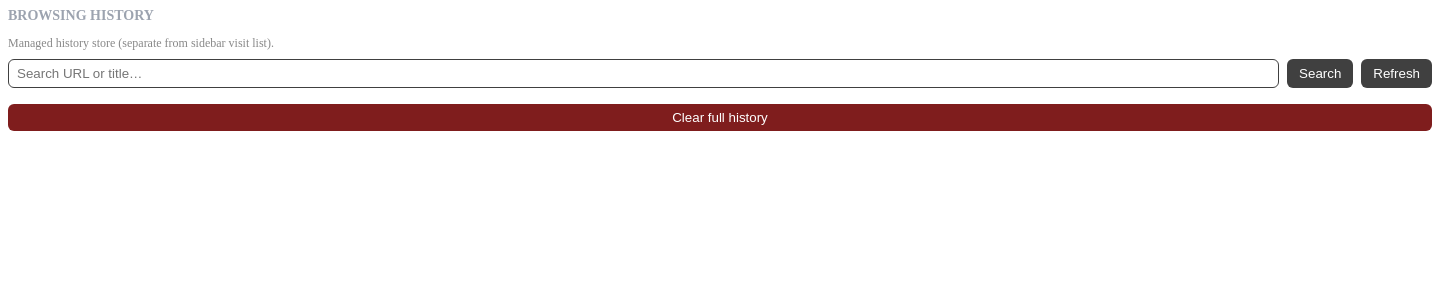
HistoryManagerSettings › shows confirm text on first clear click
Click the button with class "nav-button" showing "Clear full history" at (720, 118), box [8,104,1432,131]
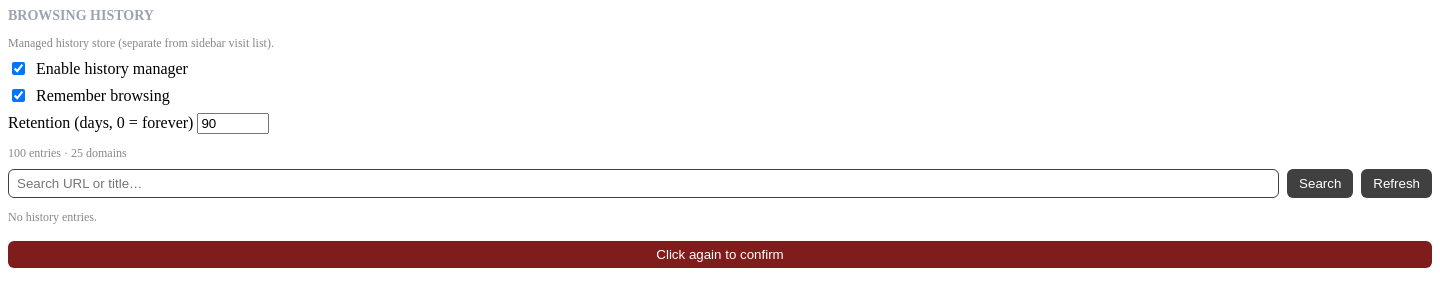
expect the button with class "nav-button" reads "Click again to confirm": met, box [8,241,1432,268]
